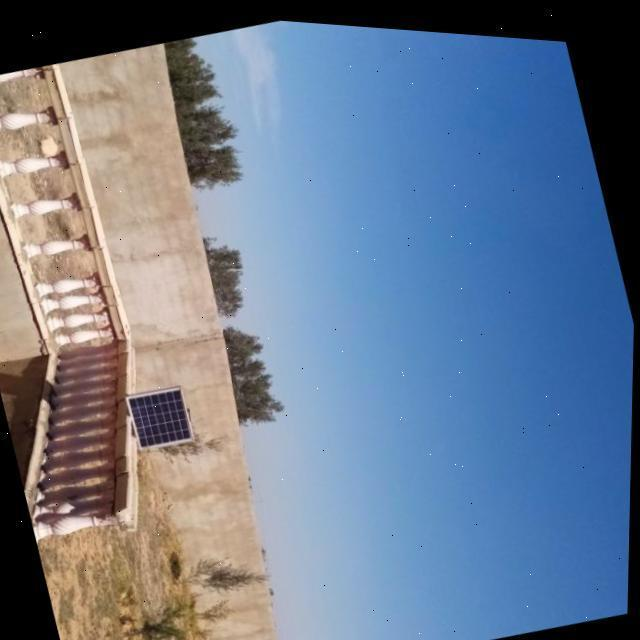Normal Solar Panel: (125, 380, 197, 452)
